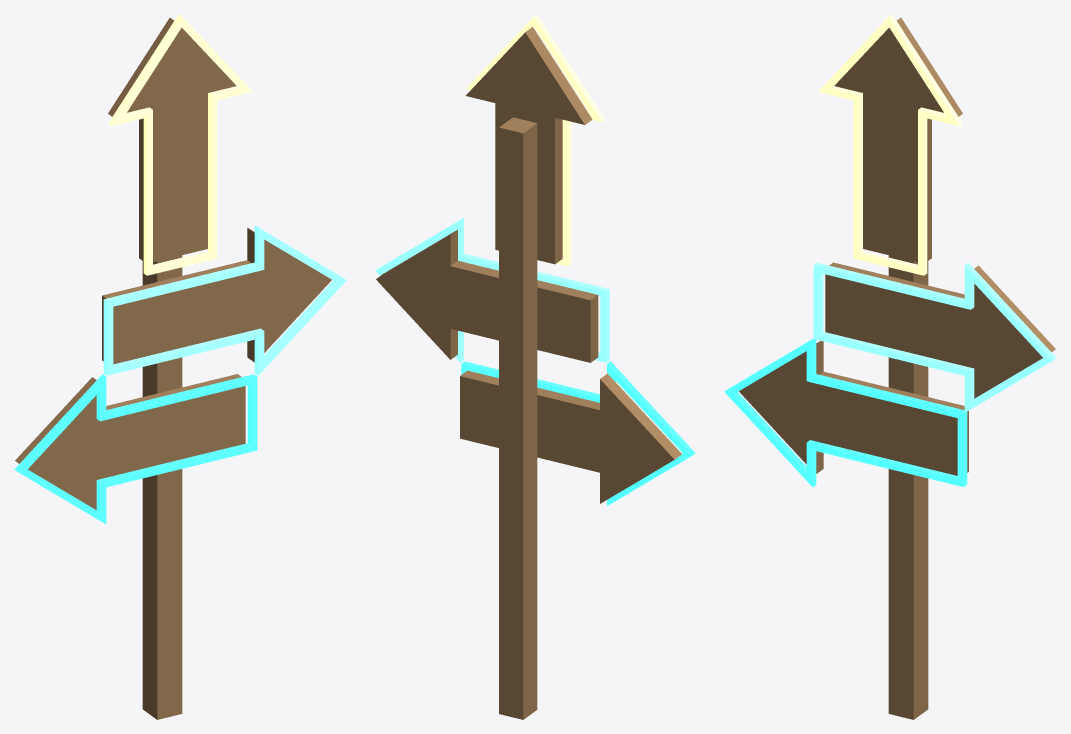
File: Prop_Sign_Arrow_B.fbx
The picture shows the model from 3 angles, left to right: view 1: azimuth 30°, elevation 25°; view 2: azimuth 150°, elevation 25°; view 3: azimuth 330°, elevation 25°; orthographic projection. The views are drawn at different scales.
Parts seen in each view (by area): view 1: Prop_Sign_Arrow_B; view 2: Prop_Sign_Arrow_B; view 3: Prop_Sign_Arrow_B.
Boxes of the visible parts, x1,y1,x2,y2 form: Prop_Sign_Arrow_B: (14,14,346,719); Prop_Sign_Arrow_B: (375,14,695,719); Prop_Sign_Arrow_B: (724,14,1056,719).
Bounding box in the file's own units: 1.7 × 3.5 × 0.2406.
